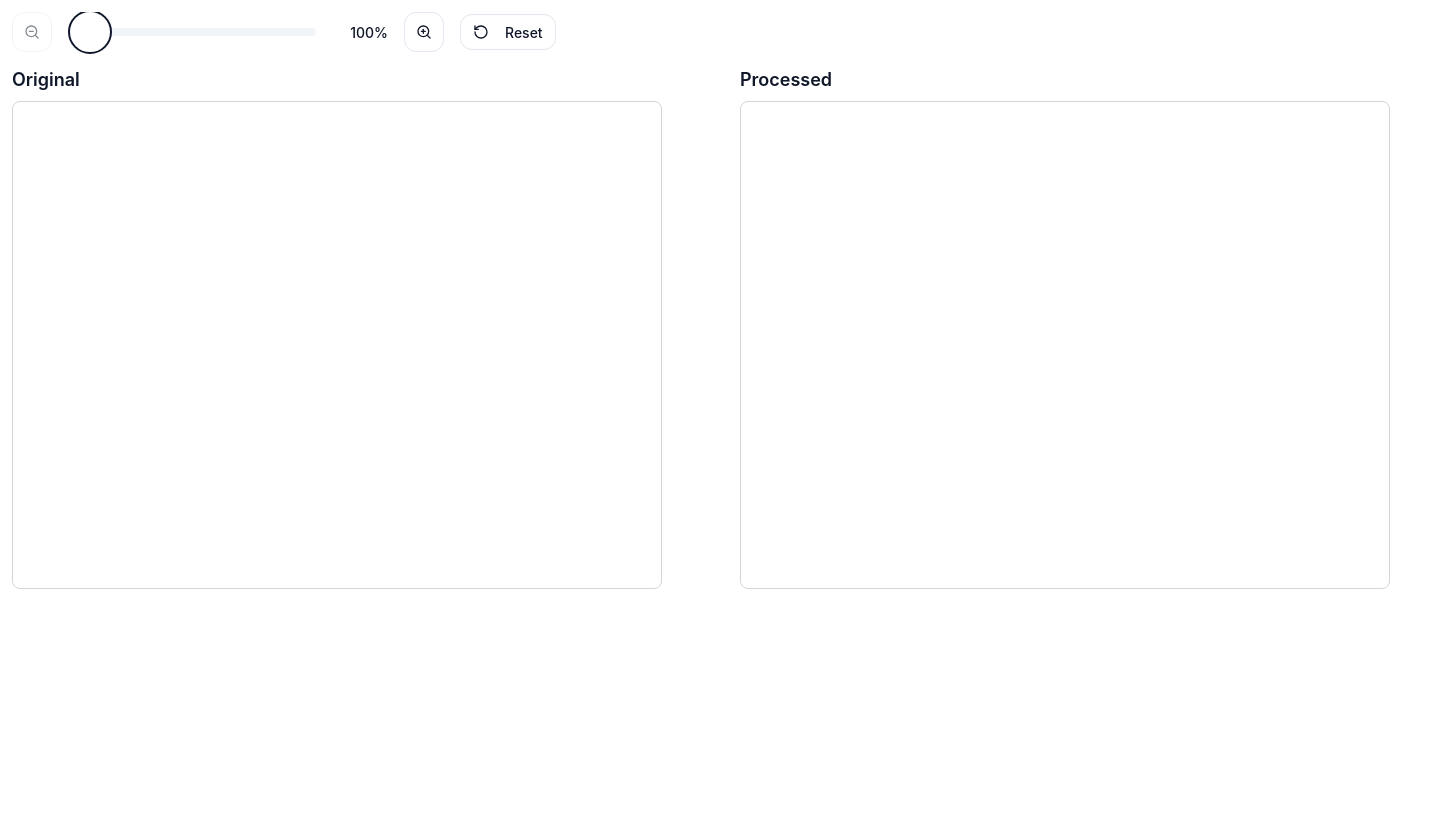
Test: ImagePreview - Zoom and Pan › resets zoom and pan on reset button click
# Zoom in first
Click the button named "zoom in".
click(424, 32)  # box 404,12 -> 444,52
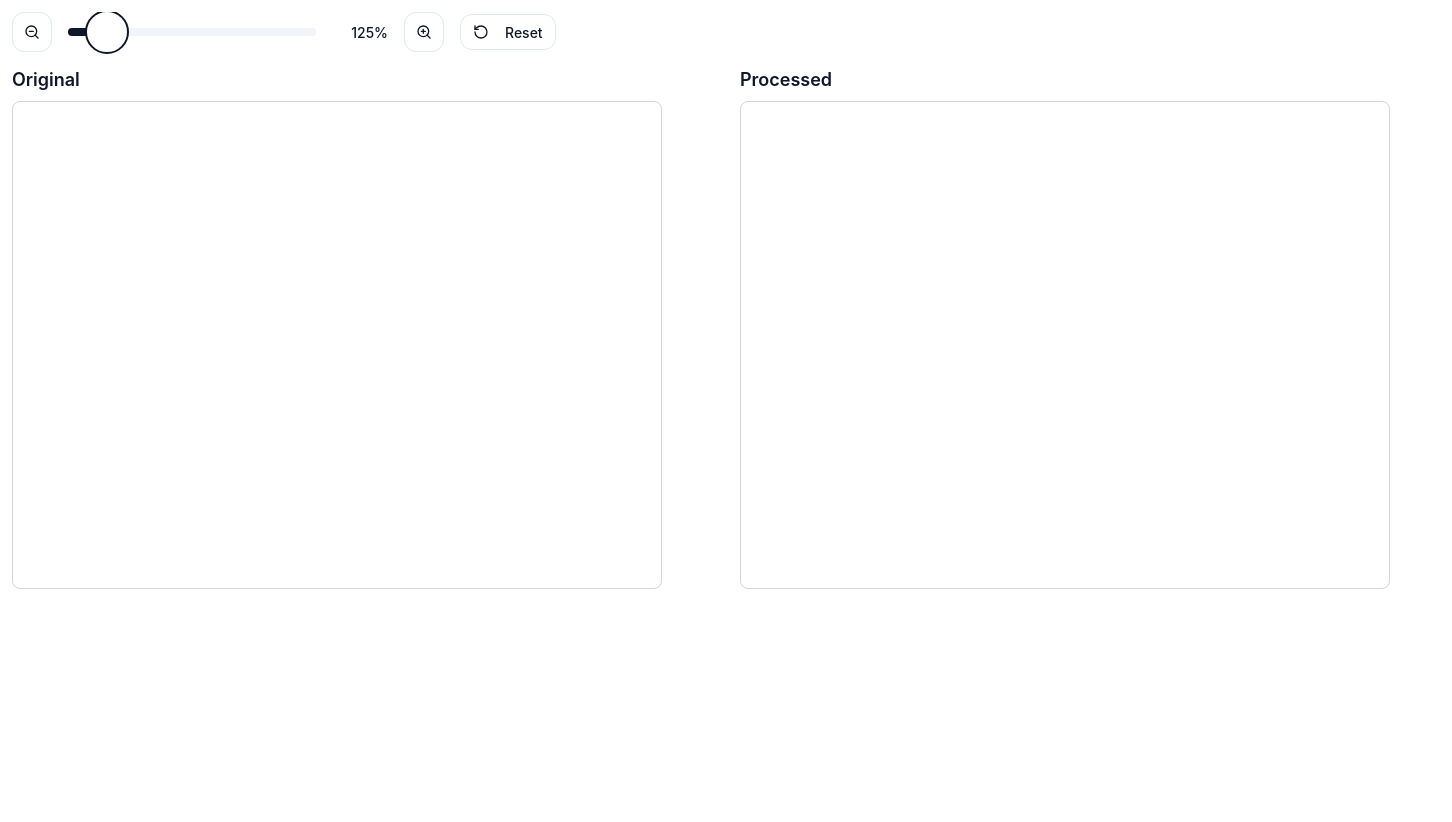
Result: the text "125%" is shown at 351,24 -> 388,40
Click the button "Reset".
click(508, 32)  # box 460,14 -> 556,50
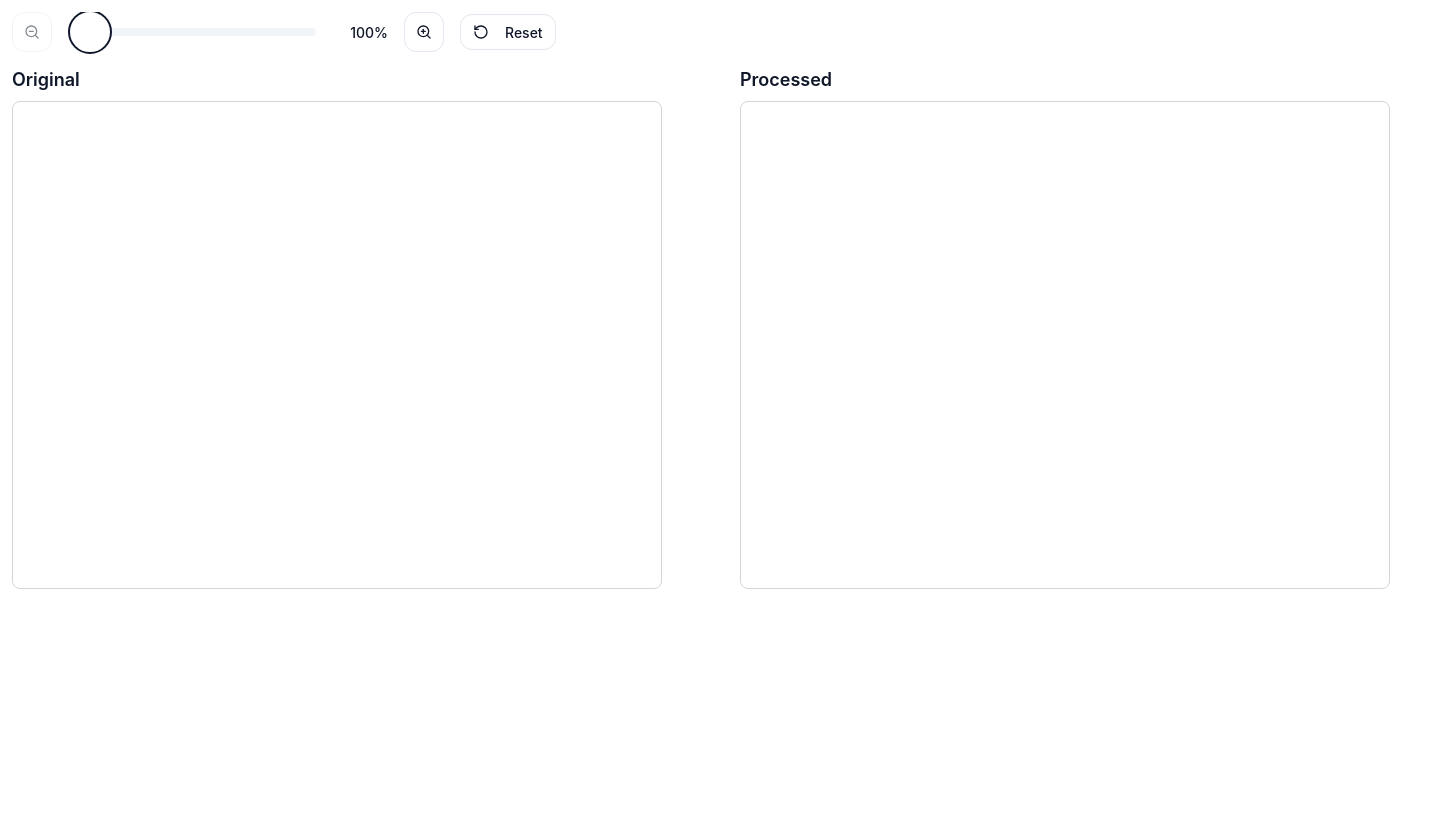
Result: the text "100%" is shown at 350,24 -> 388,40
